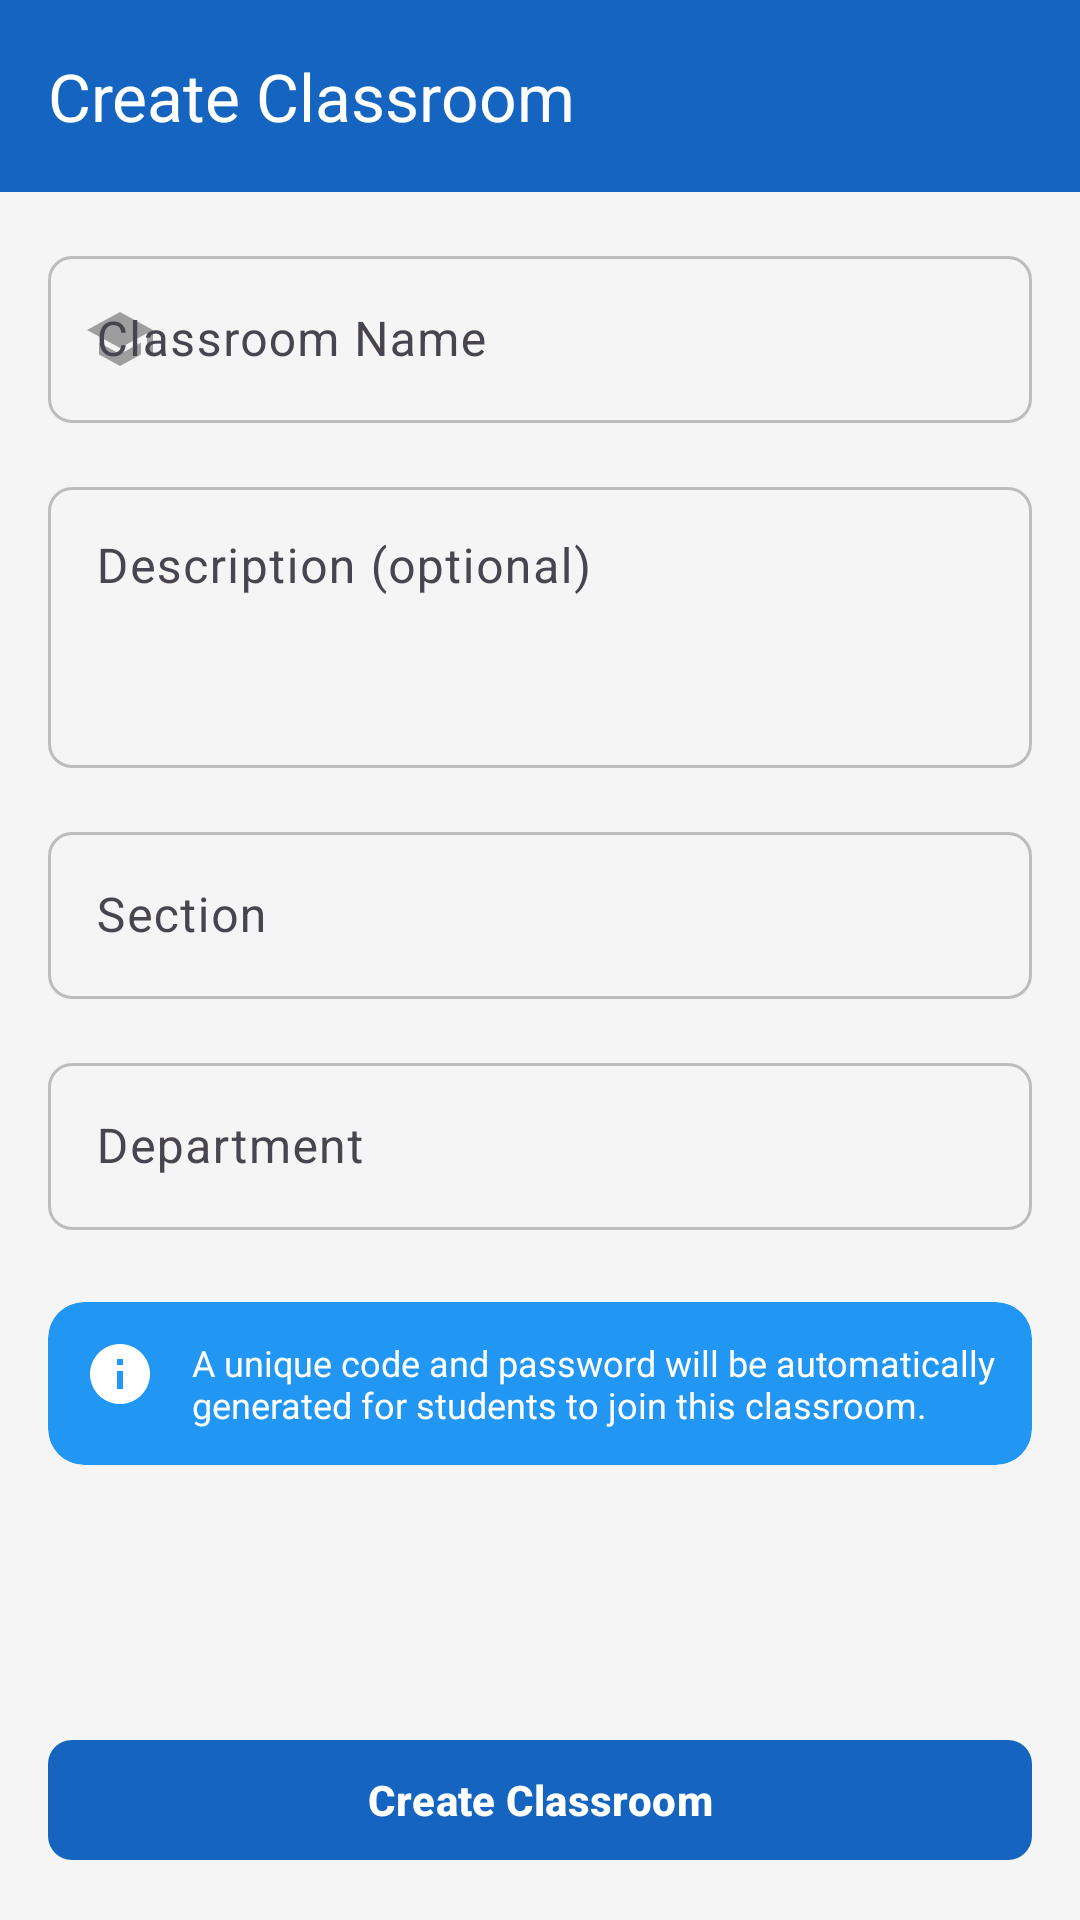

Screen size 1080×1920. Icon name, then its box in pixels as (x1, y1, x2, y2):
Info: (90, 1344, 150, 1404)
